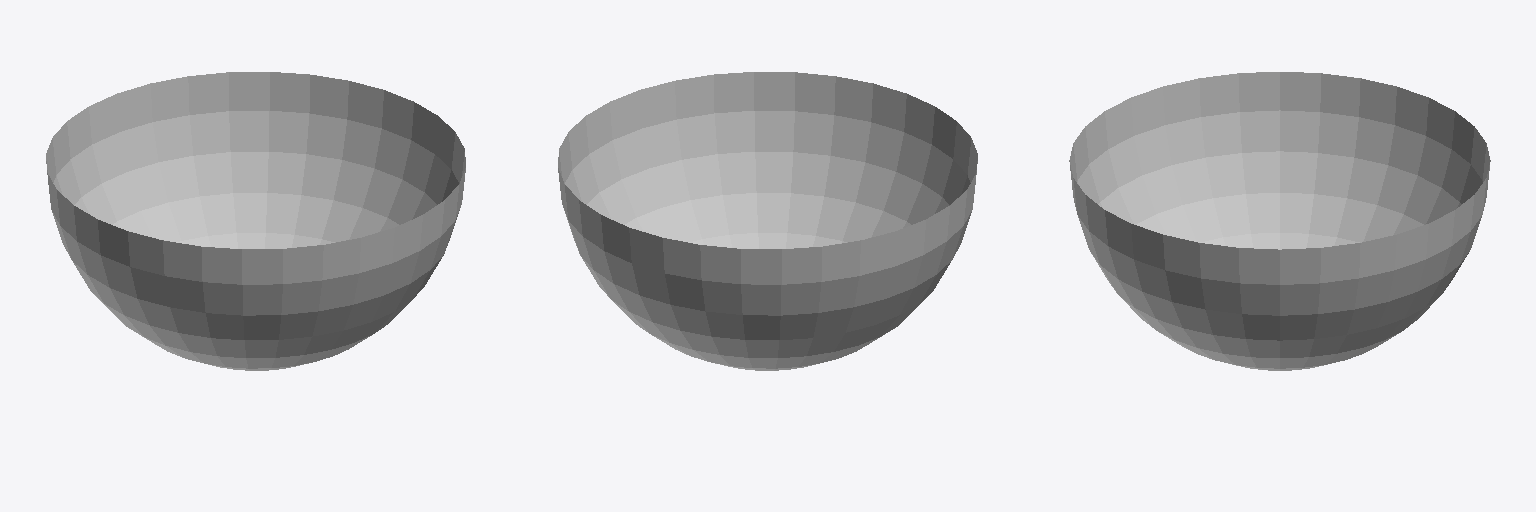
File: DeathStarUnder.obj
The picture shows the model from 3 angles: view 1: azimuth 30°, elevation 25°; view 2: azimuth 150°, elevation 25°; view 3: azimuth 270°, elevation 25°; orthographic projection.
Parts seen in each view (by area): view 1: Sphere_Sphere.001; view 2: Sphere_Sphere.001; view 3: Sphere_Sphere.001.
Part boxes in pixels (x1,y1,x2,y2): Sphere_Sphere.001: (46, 72, 465, 370); Sphere_Sphere.001: (558, 72, 977, 370); Sphere_Sphere.001: (1069, 72, 1490, 370).
Bounding box in the file's own units: 2 × 1 × 2.